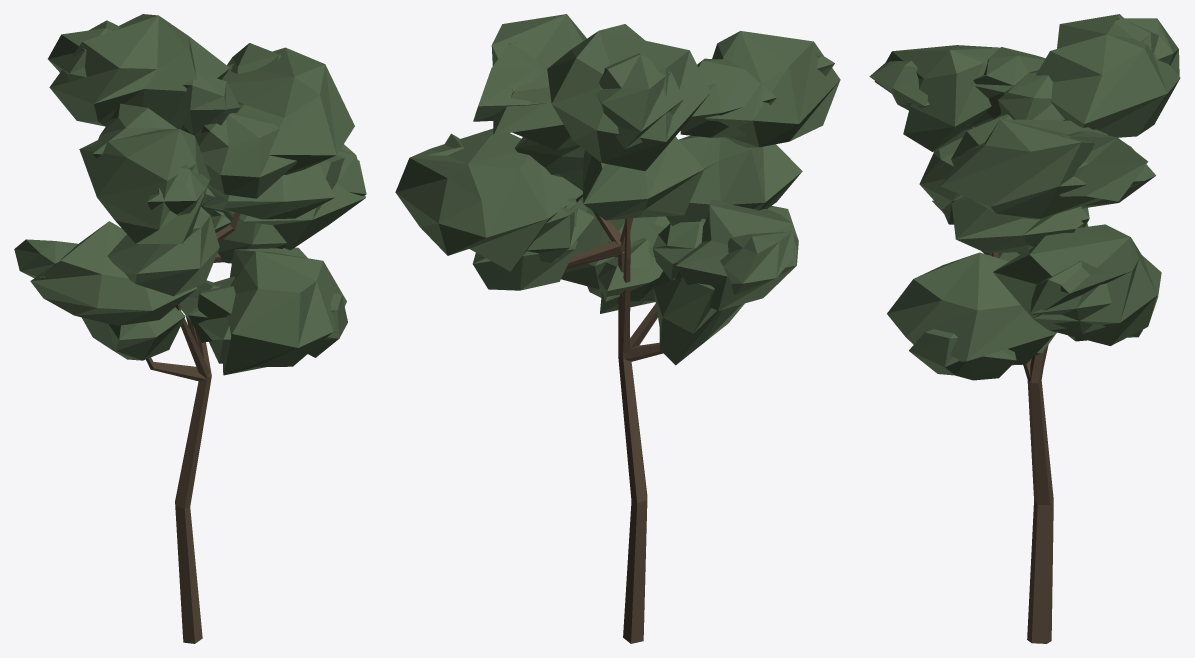
3 views of the same model, side by side, from view 1: azimuth 30°, elevation 25°; view 2: azimuth 150°, elevation 25°; view 3: azimuth 270°, elevation 25° (orthographic). The views are drawn at different scales.
Parts seen in each view (by area): view 1: pine; view 2: pine; view 3: pine.
Part boxes in pixels (box(x1,y1,x2,y2)): pine: box(14, 14, 366, 643); pine: box(395, 14, 840, 643); pine: box(869, 14, 1180, 643).
Bounding box in the file's own units: 16.07 × 26.79 × 12.42.
